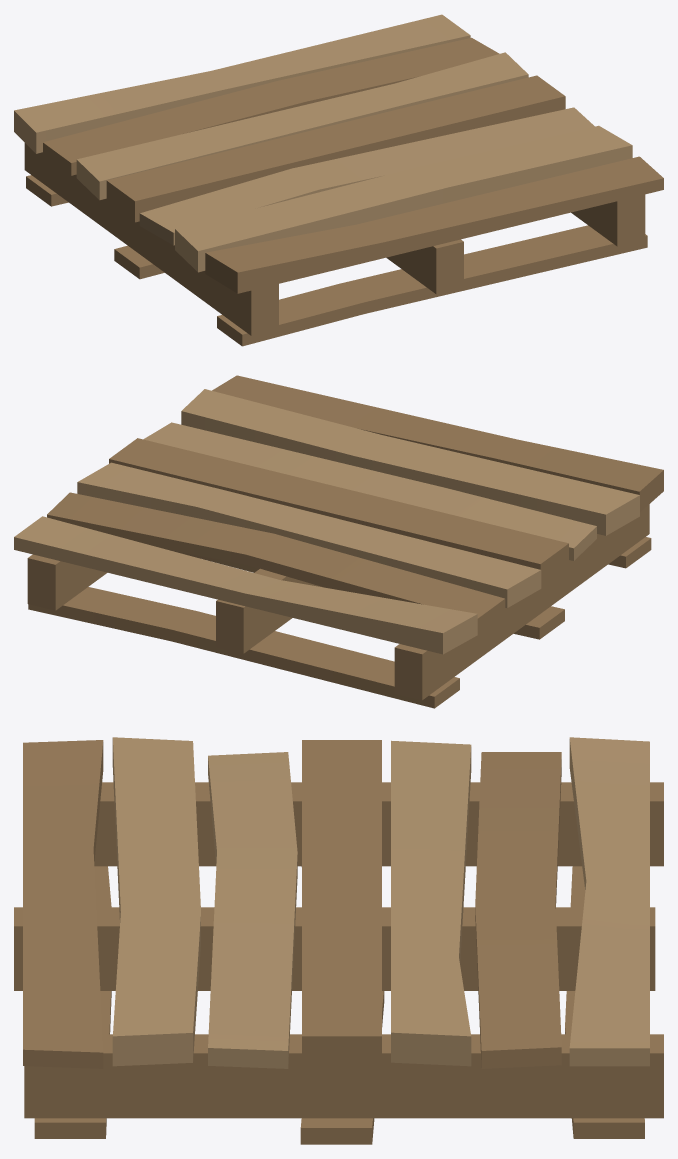
File: SM_Prop_Pallet_01.obj
3 views of the same model, one above another, from view 1: azimuth 30°, elevation 25°; view 2: azimuth 150°, elevation 25°; view 3: azimuth 270°, elevation 25° (orthographic). The views are drawn at different scales.
Visible parts, largest first — view 1: SM_Prop_Pallet_01_0; view 2: SM_Prop_Pallet_01_0; view 3: SM_Prop_Pallet_01_0.
Part boxes in pixels (x1,y1,x2,y2): SM_Prop_Pallet_01_0: (14,14,663,346); SM_Prop_Pallet_01_0: (14,375,663,708); SM_Prop_Pallet_01_0: (14,737,663,1144).
Bounding box in the file's own units: 2.26 × 0.3893 × 2.06.
Materials: 1 (1 with a texture image).
